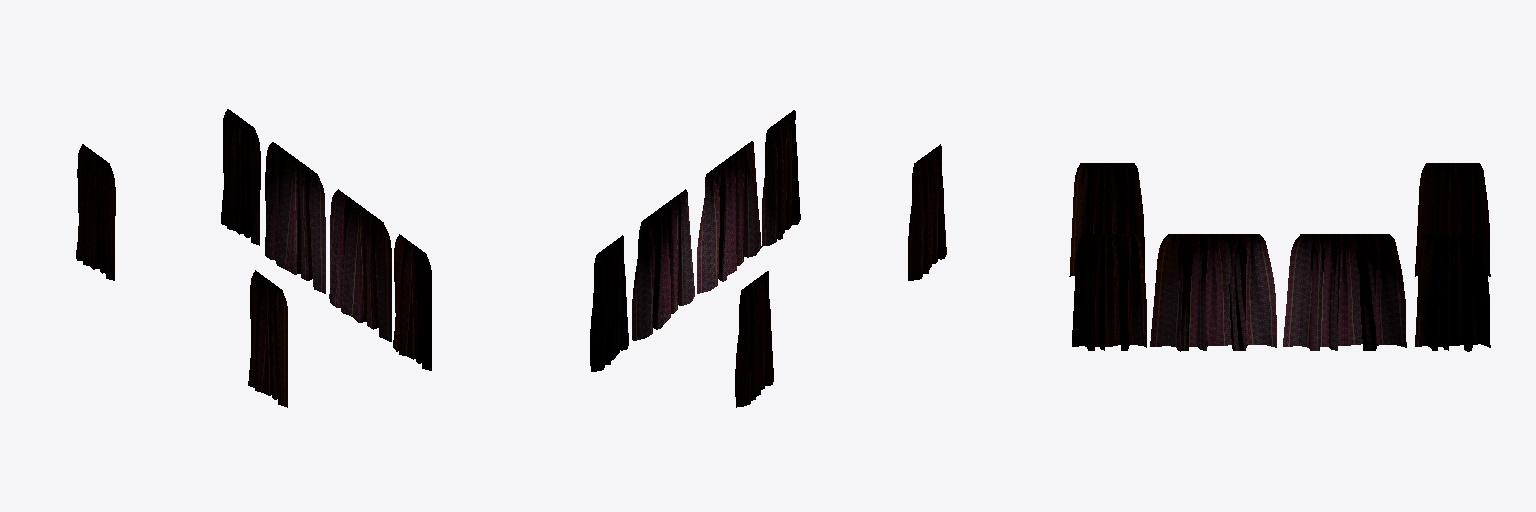
3 renders of one model, left to right at view 1: azimuth 30°, elevation 25°; view 2: azimuth 150°, elevation 25°; view 3: azimuth 270°, elevation 25°, orthographic.
Visible parts, largest first — view 1: curtains3 group5 BakedQuadGeos; view 2: curtains3 group5 BakedQuadGeos; view 3: curtains3 group5 BakedQuadGeos.
Boxes of the visible parts, x1=… form: curtains3 group5 BakedQuadGeos: x1=76, y1=109, x2=431, y2=407; curtains3 group5 BakedQuadGeos: x1=590, y1=110, x2=946, y2=407; curtains3 group5 BakedQuadGeos: x1=1069, y1=163, x2=1490, y2=351.
Size of the model in its own units: 3.35 by 2.26 by 7.56.
Materials: 1 (1 with a texture image).